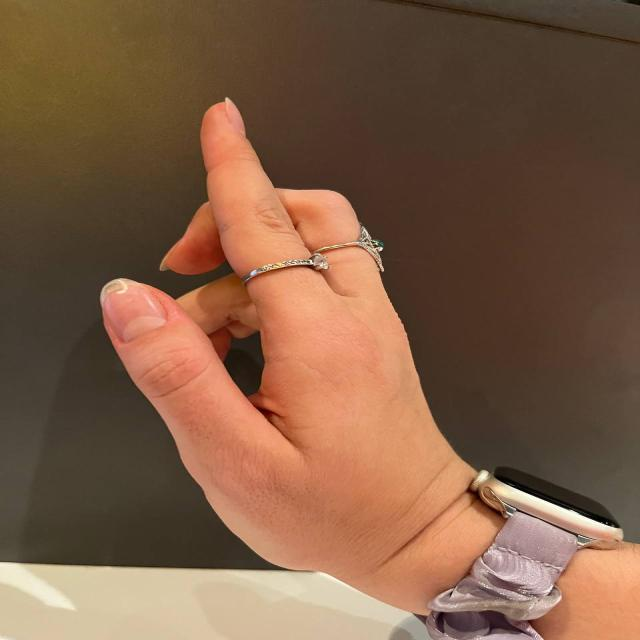b: (100, 67, 453, 518)
